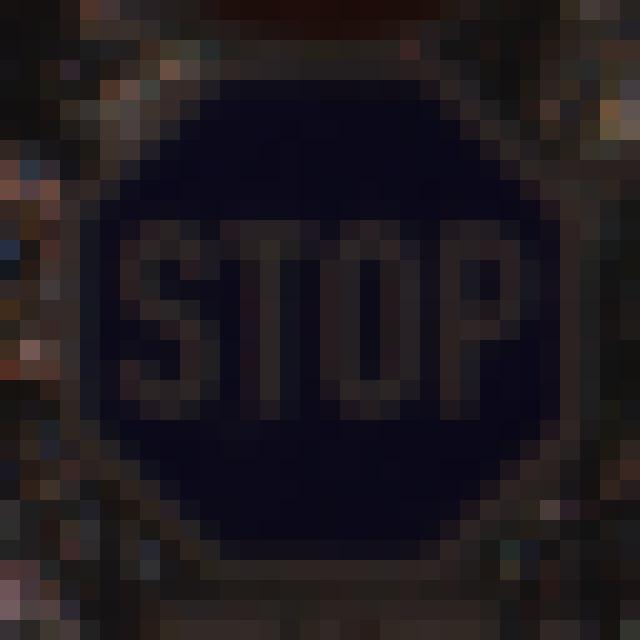STOP: (40, 39, 590, 586)
